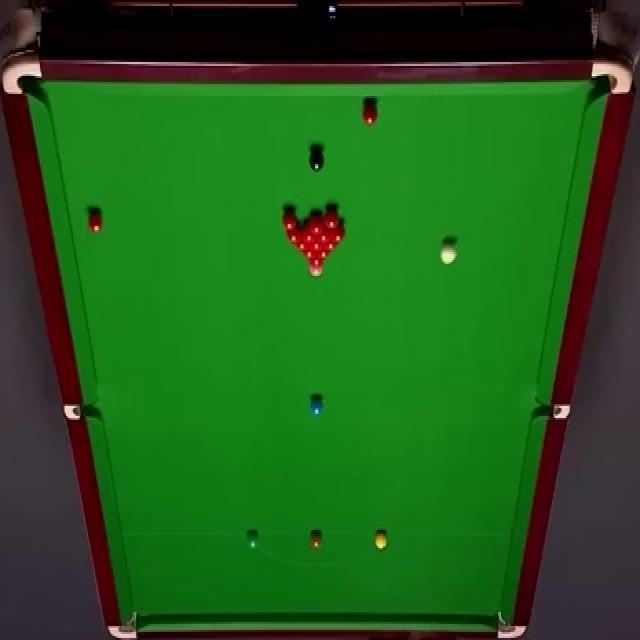black-ball: (308, 146, 324, 173), (308, 264, 323, 280)
blue-ball: (310, 394, 324, 416)
brown-ball: (310, 530, 322, 549)
green-ball: (242, 530, 258, 550)
red-ball: (362, 100, 379, 128), (282, 206, 297, 232), (324, 206, 340, 230), (87, 210, 103, 232), (308, 212, 324, 234), (330, 223, 346, 243), (303, 222, 315, 242), (287, 226, 302, 242), (316, 229, 331, 243), (322, 240, 338, 252), (308, 258, 326, 268), (317, 248, 330, 260), (301, 250, 316, 260), (294, 242, 309, 251), (310, 240, 322, 250)
white-ball: (440, 240, 457, 265)
yellow-ball: (374, 532, 388, 551)
